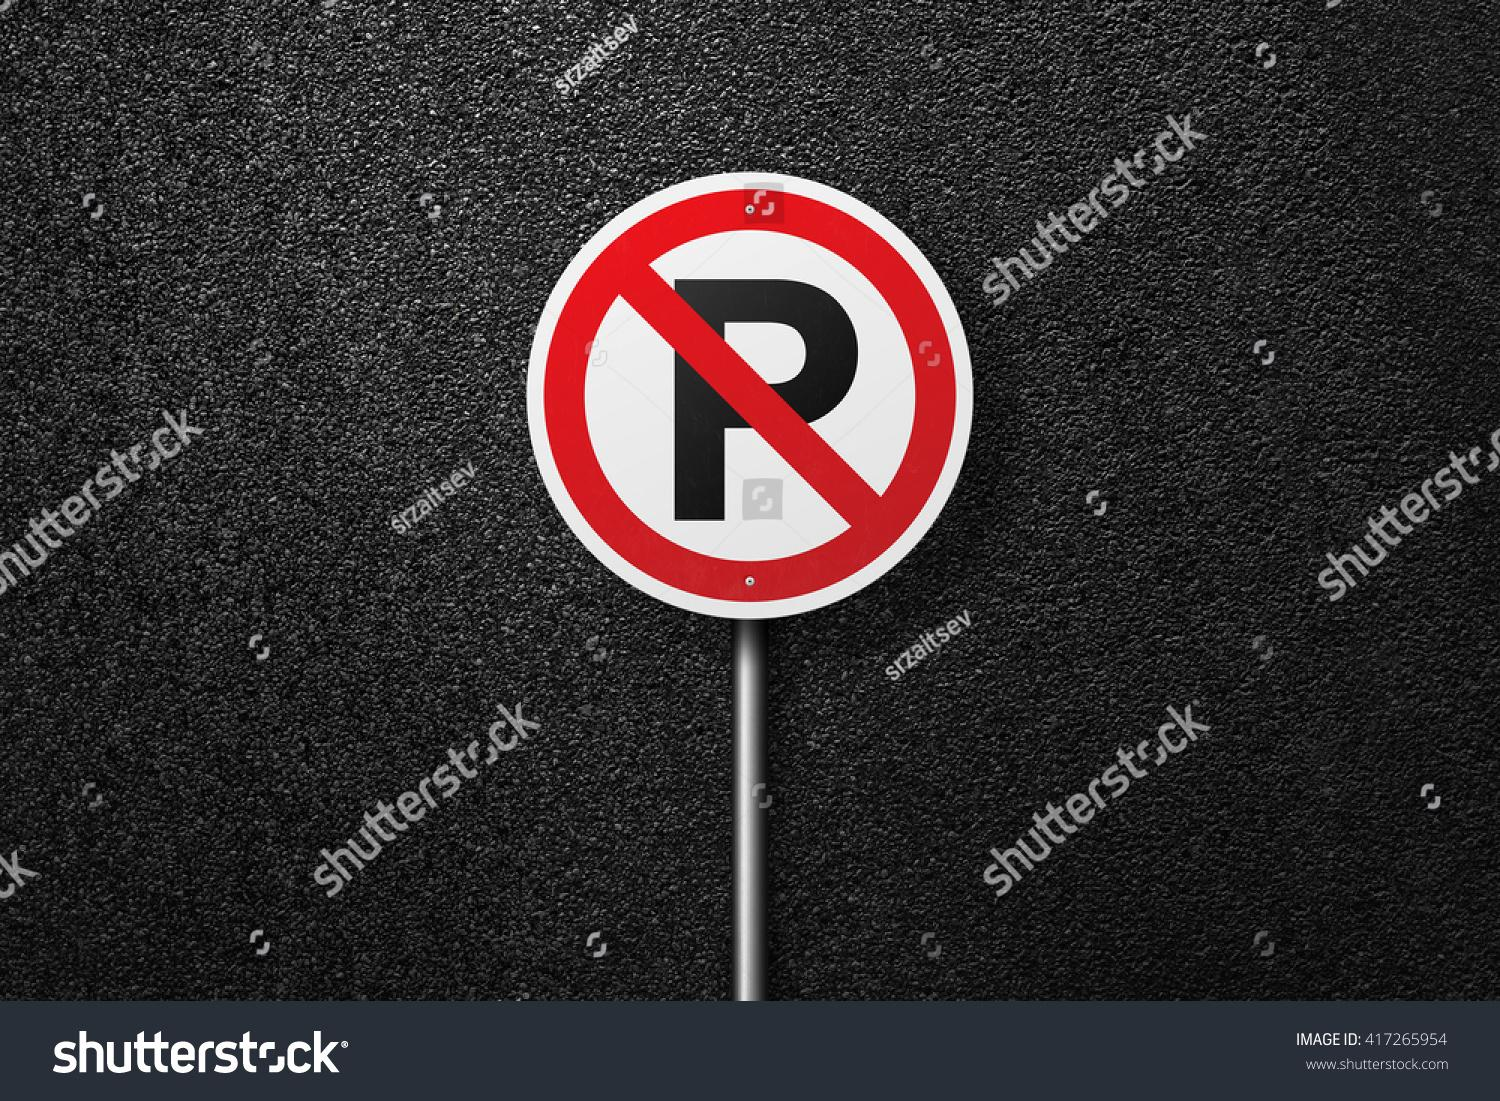No Parking: (486, 141, 997, 617)
